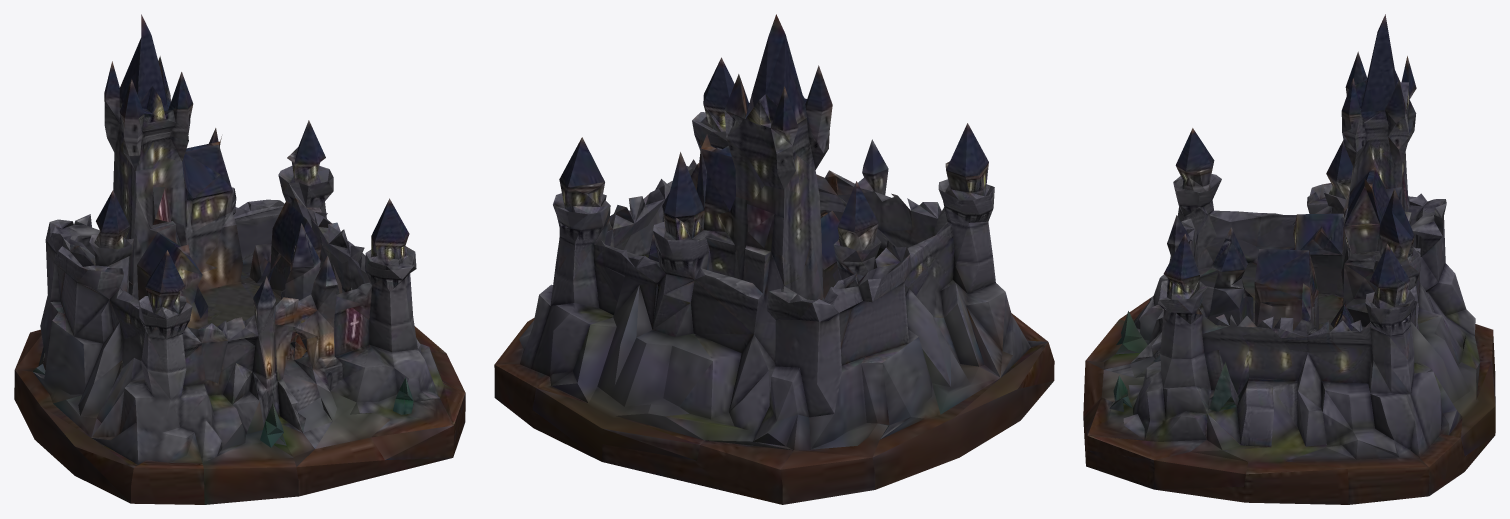
File: miniatura_fortaleza.glb
The picture shows the model from 3 angles, left to right: view 1: azimuth 30°, elevation 25°; view 2: azimuth 150°, elevation 25°; view 3: azimuth 270°, elevation 25°; orthographic projection. The views are drawn at different scales.
Parts seen in each view (by area): view 1: Mesh_0; view 2: Mesh_0; view 3: Mesh_0.
Part boxes in pixels (x1=…): Mesh_0: x1=14, y1=14, x2=465, y2=504; Mesh_0: x1=494, y1=14, x2=1054, y2=504; Mesh_0: x1=1083, y1=14, x2=1495, y2=504.
Size of the model in its own units: 0.5328 by 0.5 by 0.4995.
Materials: 1 (1 with a texture image).
